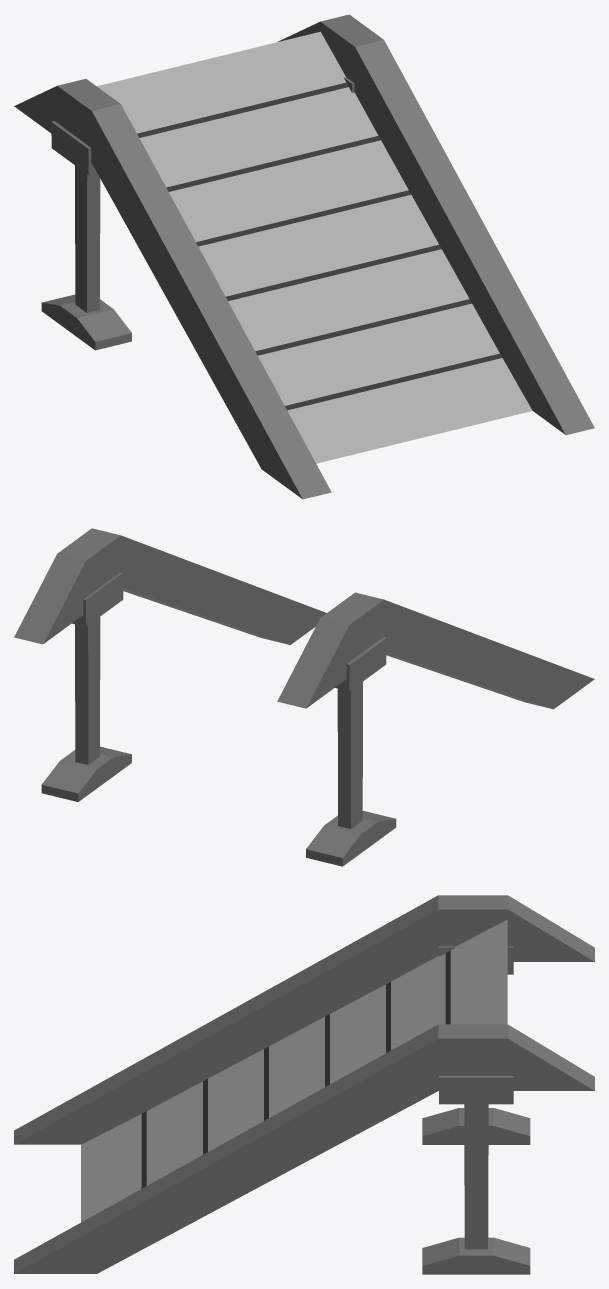
File: agility-ramp.glb
The picture shows the model from 3 angles, top to bottom: view 1: azimuth 30°, elevation 25°; view 2: azimuth 150°, elevation 25°; view 3: azimuth 270°, elevation 25°; orthographic projection.
Parts seen in each view (by area): view 1: Ramp; view 2: Ramp; view 3: Ramp.
Part boxes in pixels (x1,y1,x2,y2): Ramp: (14,14,594,499); Ramp: (14,528,594,866); Ramp: (14,895,594,1274).
Bounding box in the file's own units: 1.56 × 1.16 × 2.6.
1 material, 1 textured.
